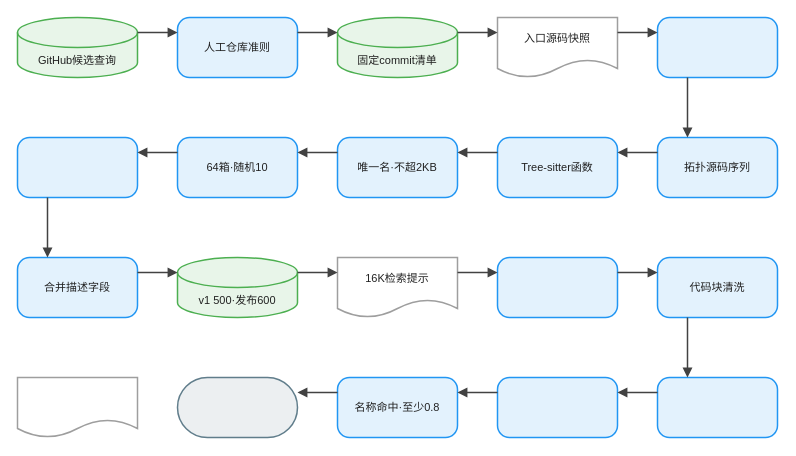
Some shapes in this 796 by 456 pixel diagram are drawn without their labels. Each missing label, with the box of its shape:
10项needle BLEU: (656, 376, 778, 438)
GPT-4四段描述: (16, 136, 138, 198)
最高相似目标: (496, 376, 618, 438)
未披露复核门: (16, 376, 138, 438)
汇总Pass@1: (176, 376, 298, 438)
被测模型输出: (496, 256, 618, 318)
语言依赖图: (656, 16, 778, 78)
